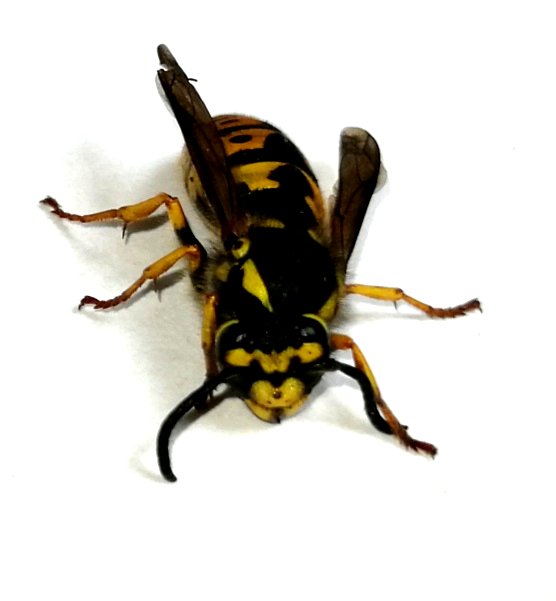chax: (33, 34, 511, 505)
